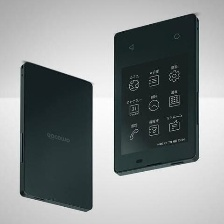phone: (110, 10, 202, 179), (15, 59, 95, 217)
